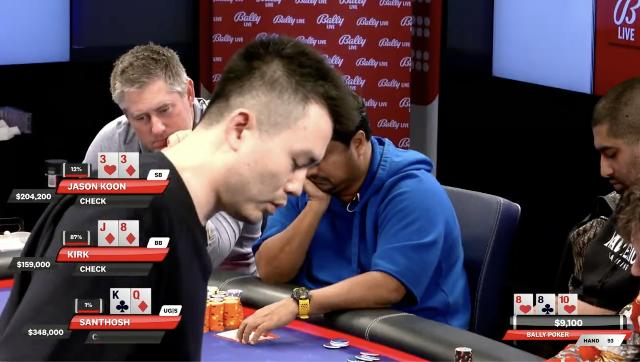10H: (559, 294, 577, 316)
3D: (119, 153, 139, 179)
3H: (98, 152, 118, 178)
8C: (536, 294, 556, 314)
8D: (119, 221, 139, 247)
8H: (514, 295, 534, 315)
JD: (98, 221, 118, 245)
KC: (110, 288, 130, 314)
QD: (131, 288, 151, 314)
